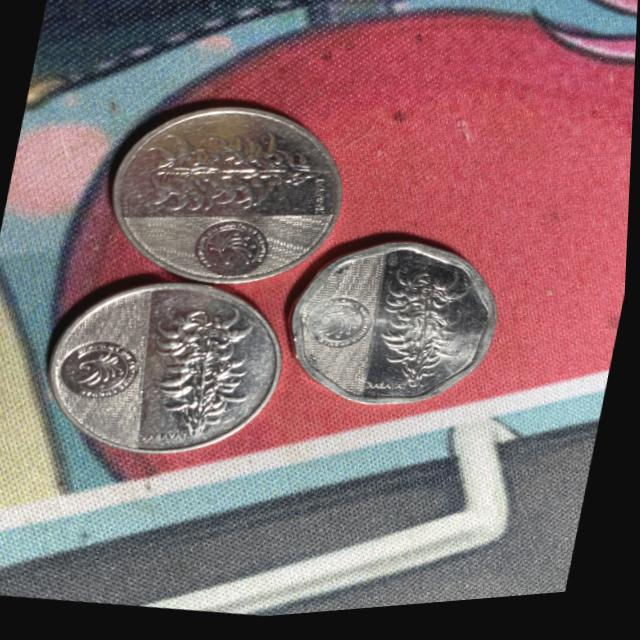5_New_Back: (140, 118, 327, 234), (138, 309, 267, 445), (370, 265, 479, 405)
